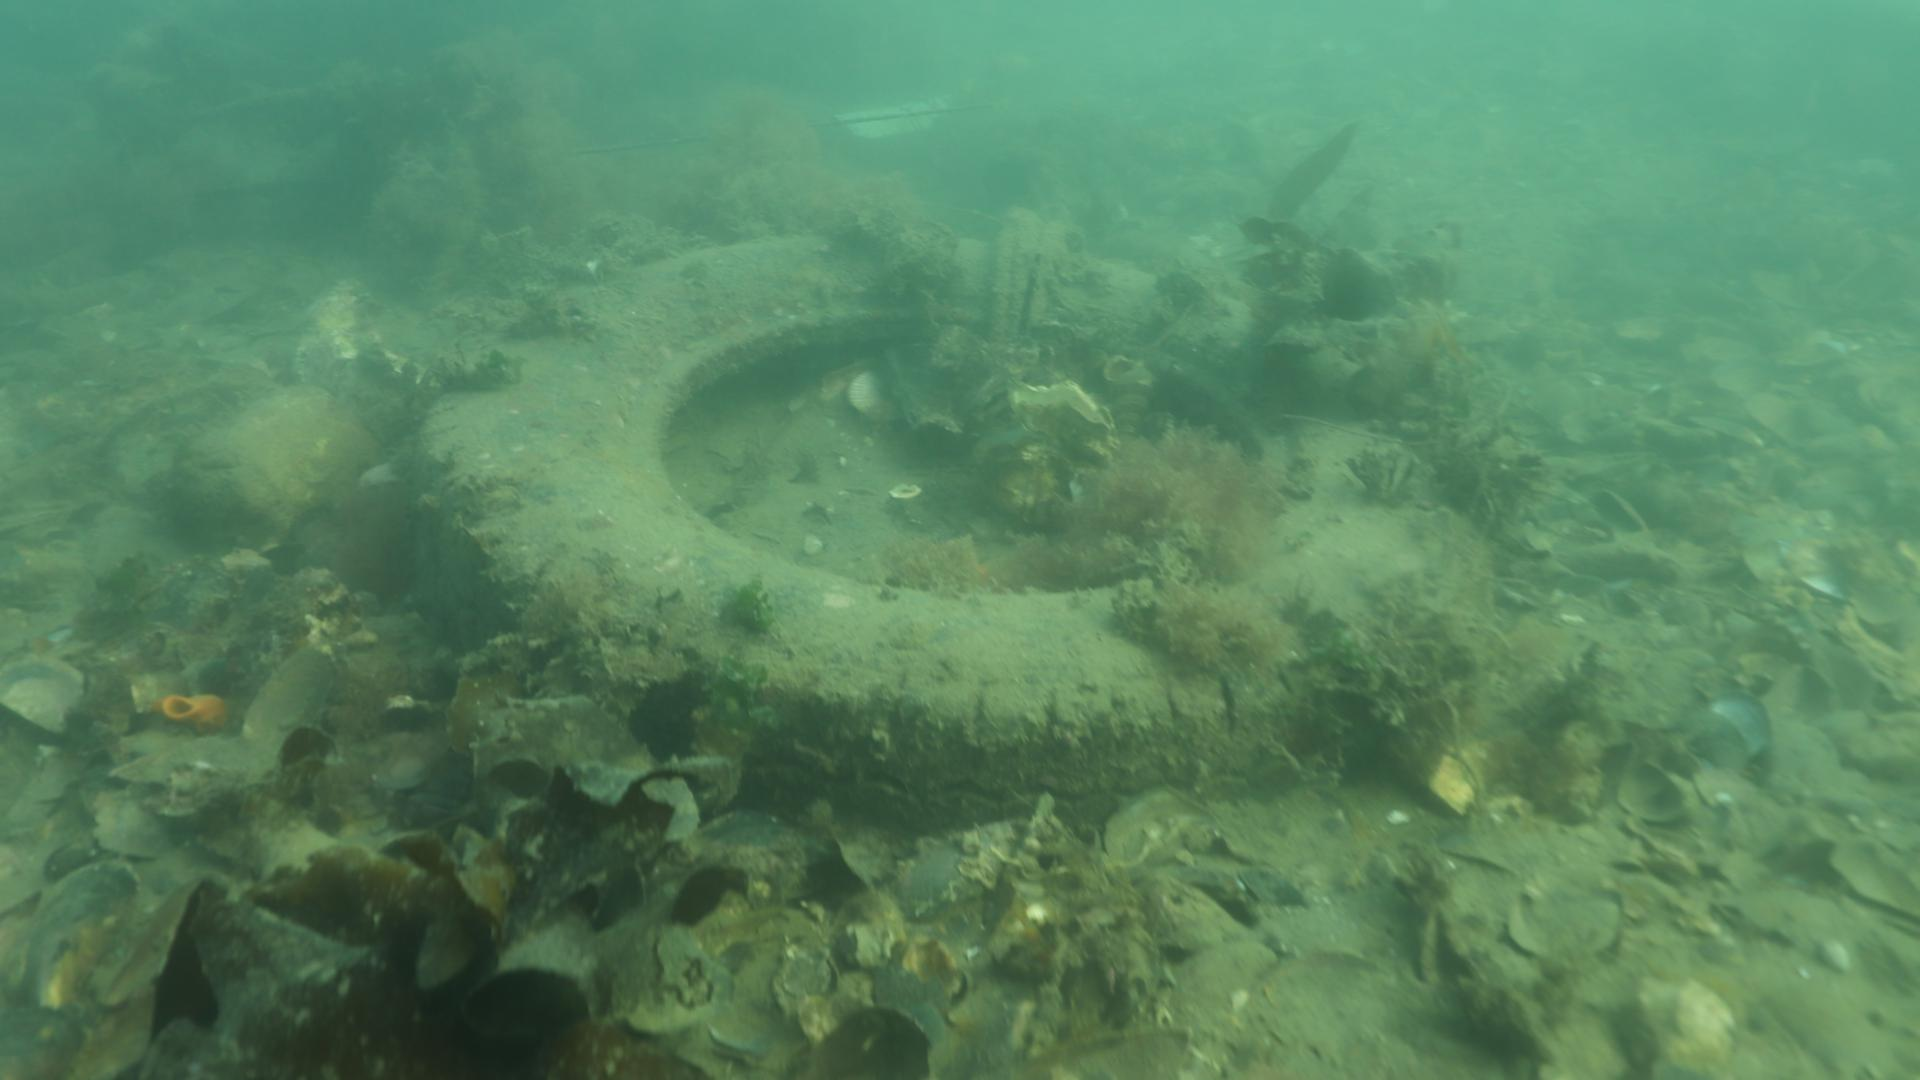tire: (414, 228, 1495, 848)
